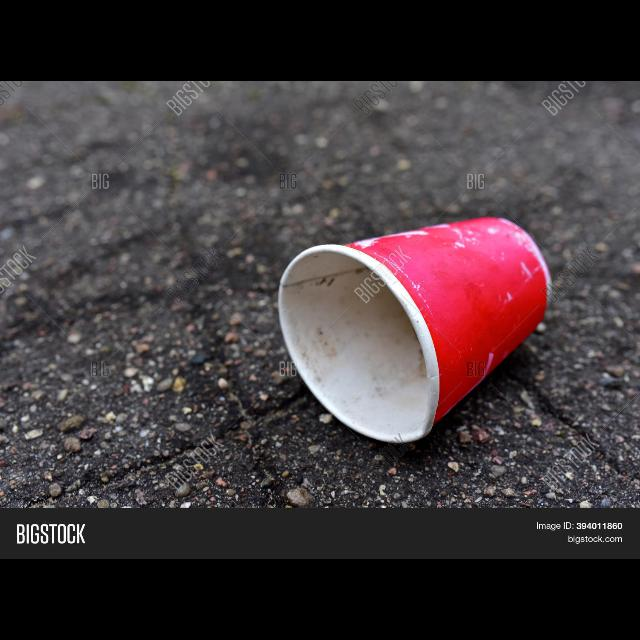trash: (276, 216, 554, 448)
